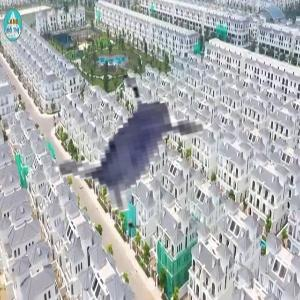drone: (16, 27, 261, 272)
